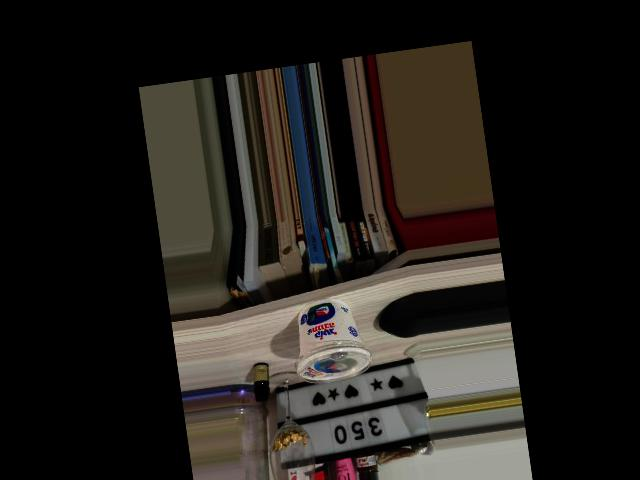cotage: (292, 293, 367, 388)
